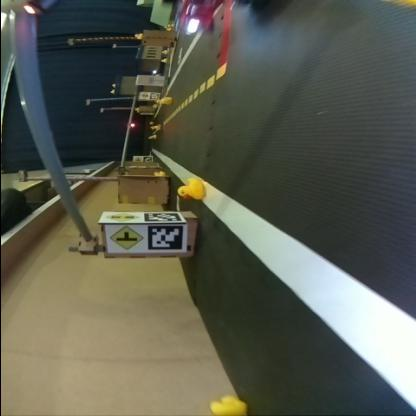Duckie: (209, 396, 246, 414), (176, 178, 202, 198), (160, 97, 168, 103), (152, 172, 164, 176), (132, 33, 140, 39), (146, 134, 154, 138), (152, 125, 158, 128)
Intersection sign: (108, 226, 140, 250)
QR code: (145, 225, 181, 249), (143, 211, 179, 221)
Signal sign: (103, 211, 139, 221)
